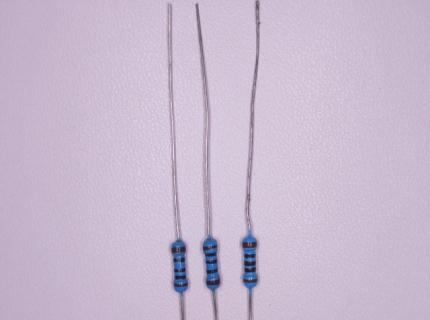Black band: (174, 267, 186, 273), (204, 251, 216, 257), (244, 260, 256, 266), (207, 268, 218, 274), (245, 267, 256, 273), (174, 275, 186, 280), (173, 257, 185, 262), (206, 259, 217, 264), (245, 254, 255, 259)
Brown band: (206, 278, 220, 286), (171, 246, 186, 253), (242, 241, 257, 248), (203, 245, 218, 251), (173, 282, 188, 288), (243, 278, 258, 283)
